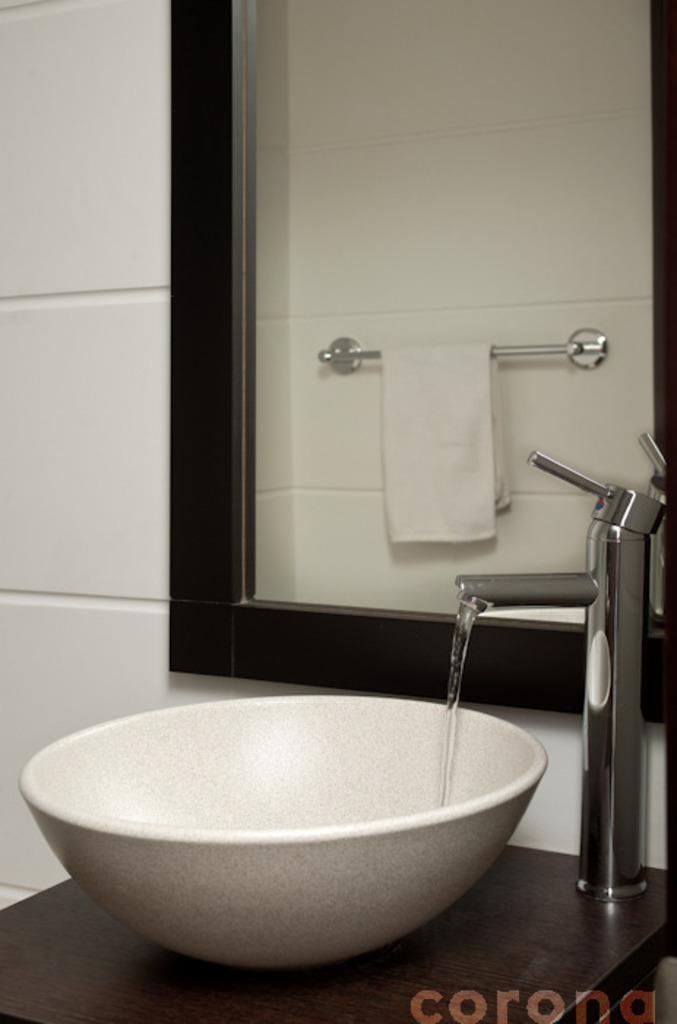tap: (450, 440, 647, 905)
